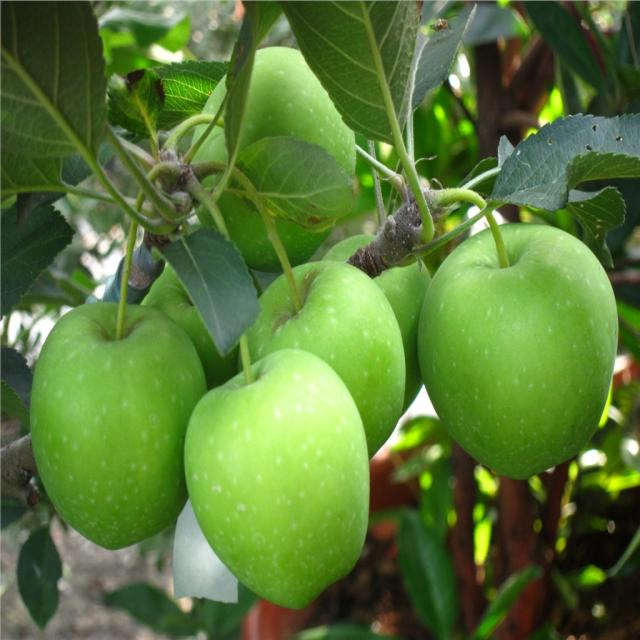Green Apple: (422, 211, 618, 469), (34, 294, 218, 550), (186, 352, 371, 592), (200, 45, 364, 270), (236, 262, 408, 463), (317, 235, 444, 373)
